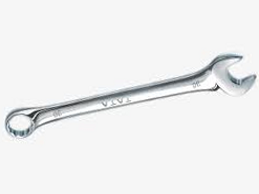wrench: (6, 48, 259, 137)
